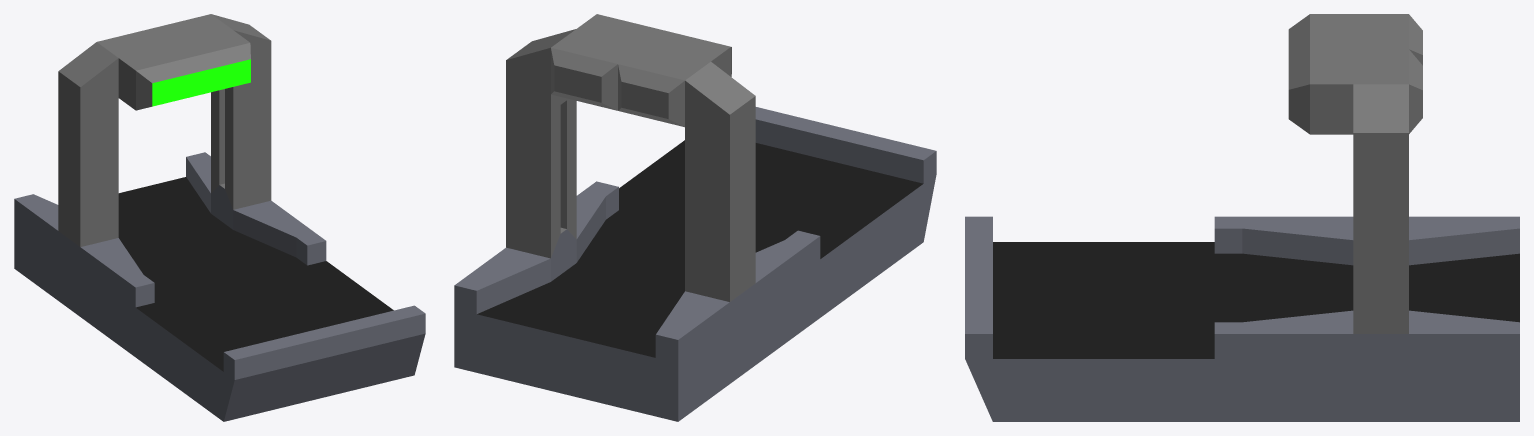
File: exit.glb
The picture shows the model from 3 angles, left to right: view 1: azimuth 30°, elevation 25°; view 2: azimuth 150°, elevation 25°; view 3: azimuth 270°, elevation 25°; orthographic projection. The views are drawn at different scales.
Visible parts, largest first — view 1: ExitPlatformMesh, ExitGateMesh; view 2: ExitPlatformMesh, ExitGateMesh; view 3: ExitPlatformMesh, ExitGateMesh.
Part boxes in pixels (left/top/right/bottom): ExitPlatformMesh: left=14, top=152, right=425, bottom=421; ExitGateMesh: left=58, top=14, right=271, bottom=246; ExitPlatformMesh: left=454, top=107, right=936, bottom=421; ExitGateMesh: left=506, top=14, right=755, bottom=301; ExitPlatformMesh: left=965, top=216, right=1519, bottom=421; ExitGateMesh: left=1288, top=14, right=1422, bottom=333.
Bounding box in the file's own units: 2 × 2.5 × 4.
